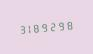eight: (33, 21, 40, 34), (65, 18, 72, 31)
nine: (41, 20, 48, 33), (57, 19, 64, 32)
one: (25, 21, 32, 35)
three: (17, 22, 24, 35)
two: (49, 19, 56, 33)
